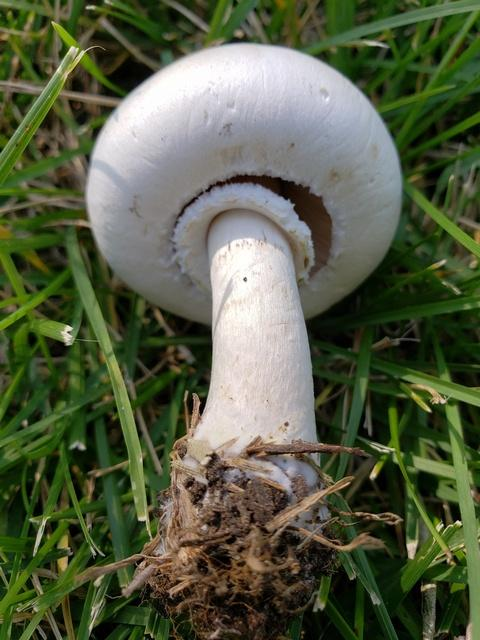Non-edible Mushroom: (85, 23, 409, 640)
